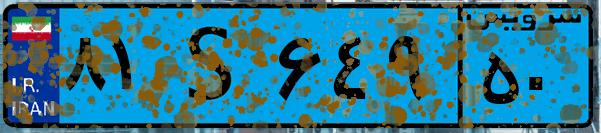0: (525, 38, 570, 115)
1: (110, 28, 158, 98)
4: (330, 28, 385, 110)
5: (475, 38, 525, 113)
6: (270, 28, 330, 110)
8: (57, 26, 110, 100)
9: (385, 28, 445, 110)
S: (158, 12, 270, 120)
